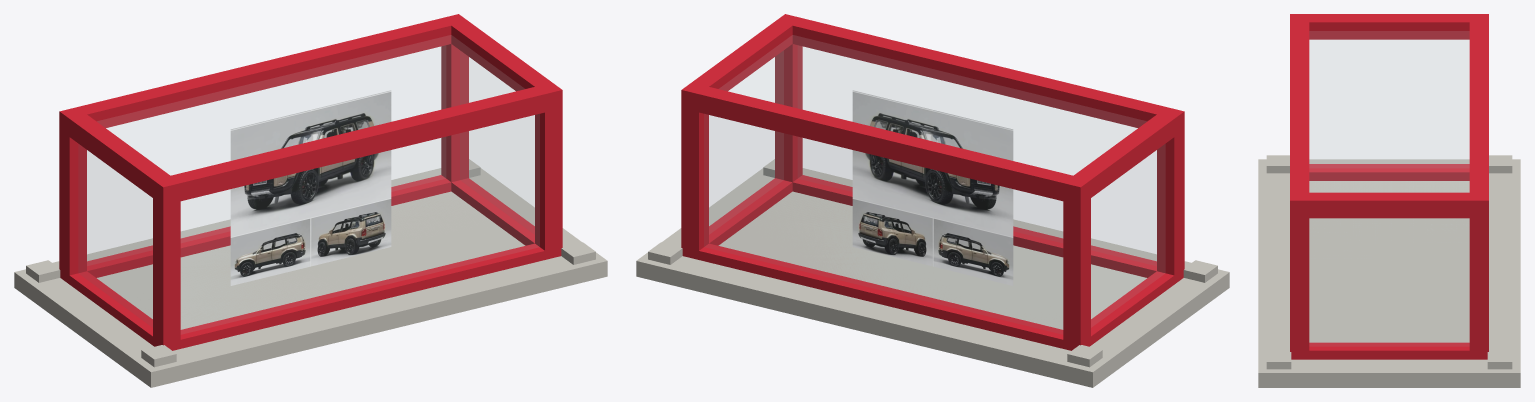
File: land-cruiser-250-753880.glb
3 renders of one model, left to right at view 1: azimuth 30°, elevation 25°; view 2: azimuth 150°, elevation 25°; view 3: azimuth 270°, elevation 25°, orthographic. The views are drawn at different scales.
Size of the model in its own units: 0.183 by 0.0695 by 0.095.
Materials: 4 (1 with a texture image).
